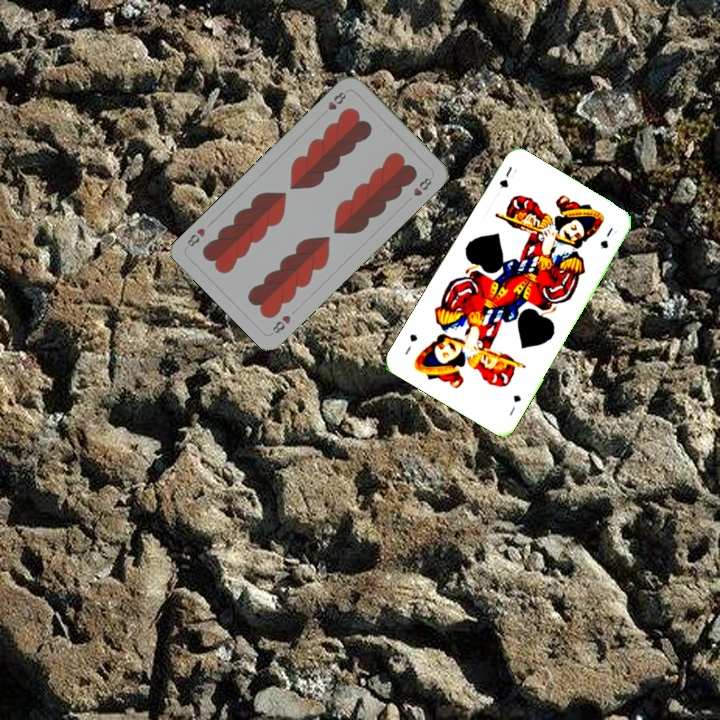GU: (495, 162, 520, 191), (505, 391, 524, 418)
H8: (267, 311, 293, 337), (324, 87, 349, 113)
